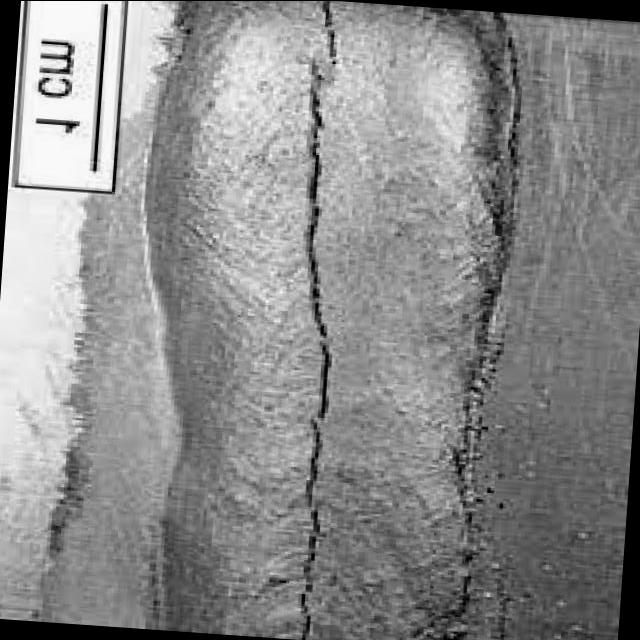defect: (291, 6, 348, 640)
